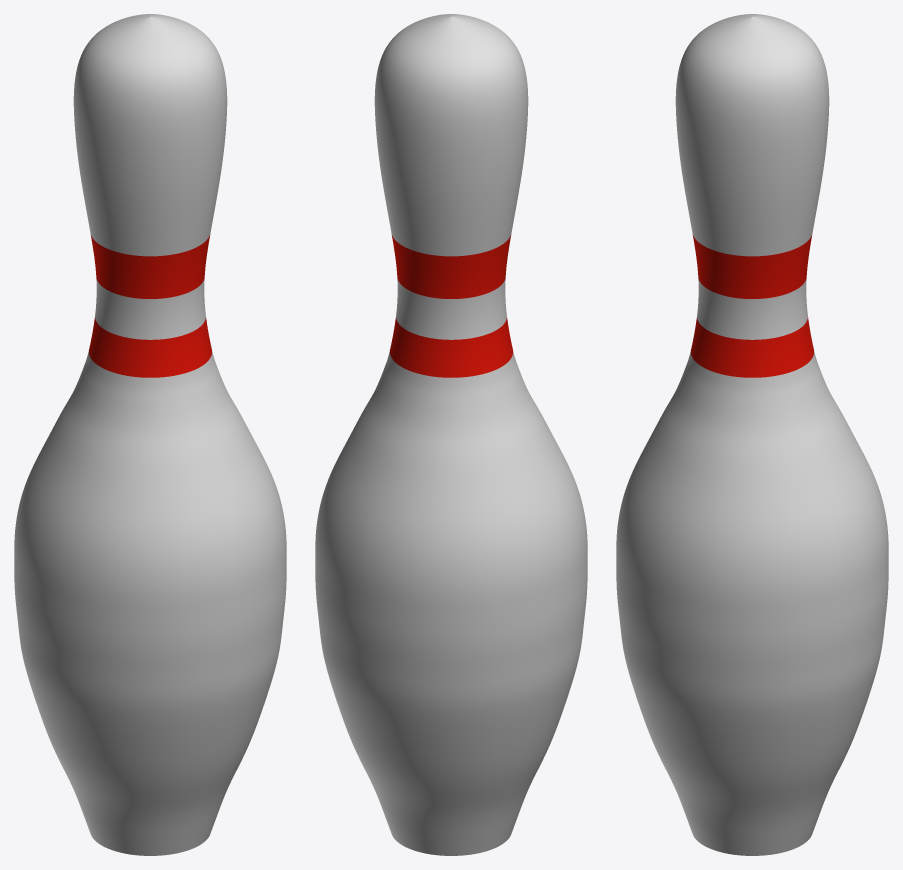
File: kegel.fbx
3 renders of one model, left to right at view 1: azimuth 30°, elevation 25°; view 2: azimuth 150°, elevation 25°; view 3: azimuth 270°, elevation 25°, orthographic.
Parts seen in each view (by area): view 1: Circle; view 2: Circle; view 3: Circle.
Boxes of the visible parts, left/top/right/bottom form: Circle: left=14, top=14, right=286, bottom=855; Circle: left=315, top=14, right=587, bottom=855; Circle: left=616, top=14, right=888, bottom=855.
Size of the model in its own units: 111 by 364 by 111.
